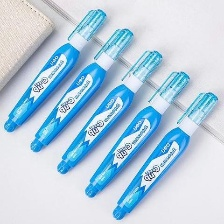correction_fluid: (110, 89, 220, 221), (54, 48, 164, 177), (83, 69, 192, 199), (28, 25, 136, 154), (2, 7, 108, 135)
